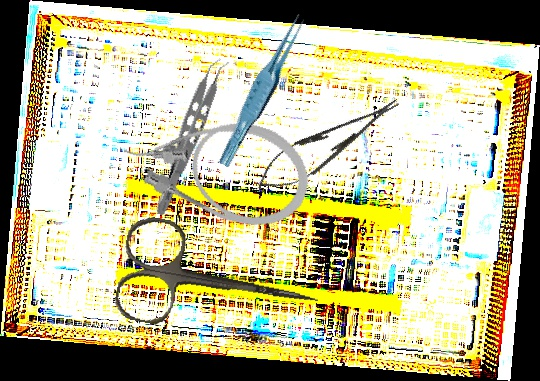Cannula: (113, 88, 321, 242)
Iris Scissors: (111, 212, 328, 355)
Needle Holder: (247, 85, 409, 204)
Tissue Forceps: (207, 12, 319, 169), (151, 53, 234, 222)
